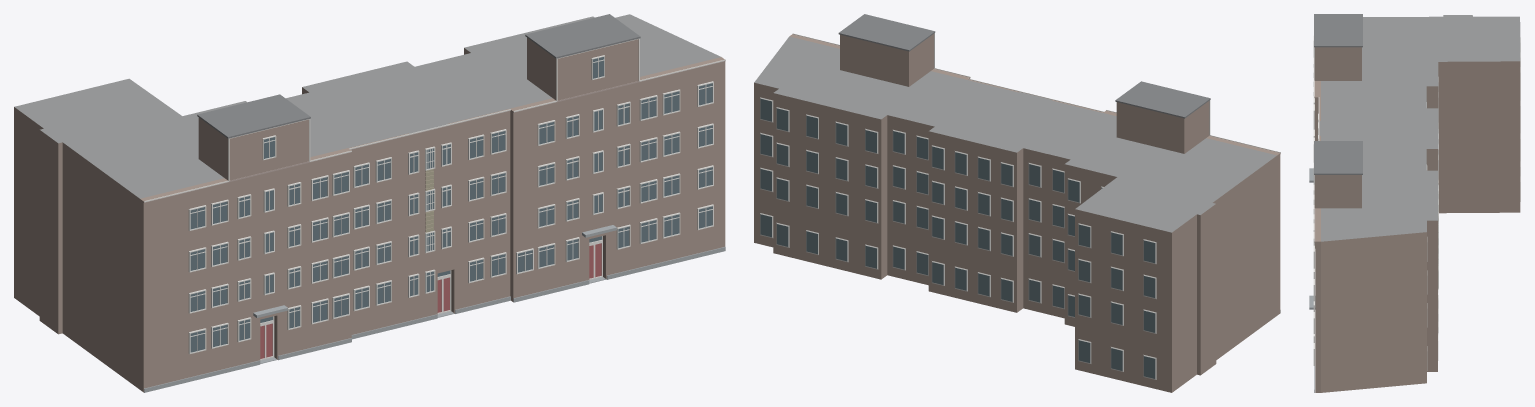
The model's file is chunk-face-luthuli-22-32.glb.
3 renders of one model, left to right at view 1: azimuth 30°, elevation 25°; view 2: azimuth 150°, elevation 25°; view 3: azimuth 270°, elevation 25°, orthographic. The views are drawn at different scales.
Parts seen in each view (by area): view 1: face-luthuli-22-32; view 2: face-luthuli-22-32; view 3: face-luthuli-22-32.
Boxes of the visible parts, x1,y1,x2,y2 form: face-luthuli-22-32: (14,14,725,392); face-luthuli-22-32: (754,14,1280,392); face-luthuli-22-32: (1309,14,1520,392).
Bounding box in the file's own units: 45.75 × 17.57 × 18.05.
